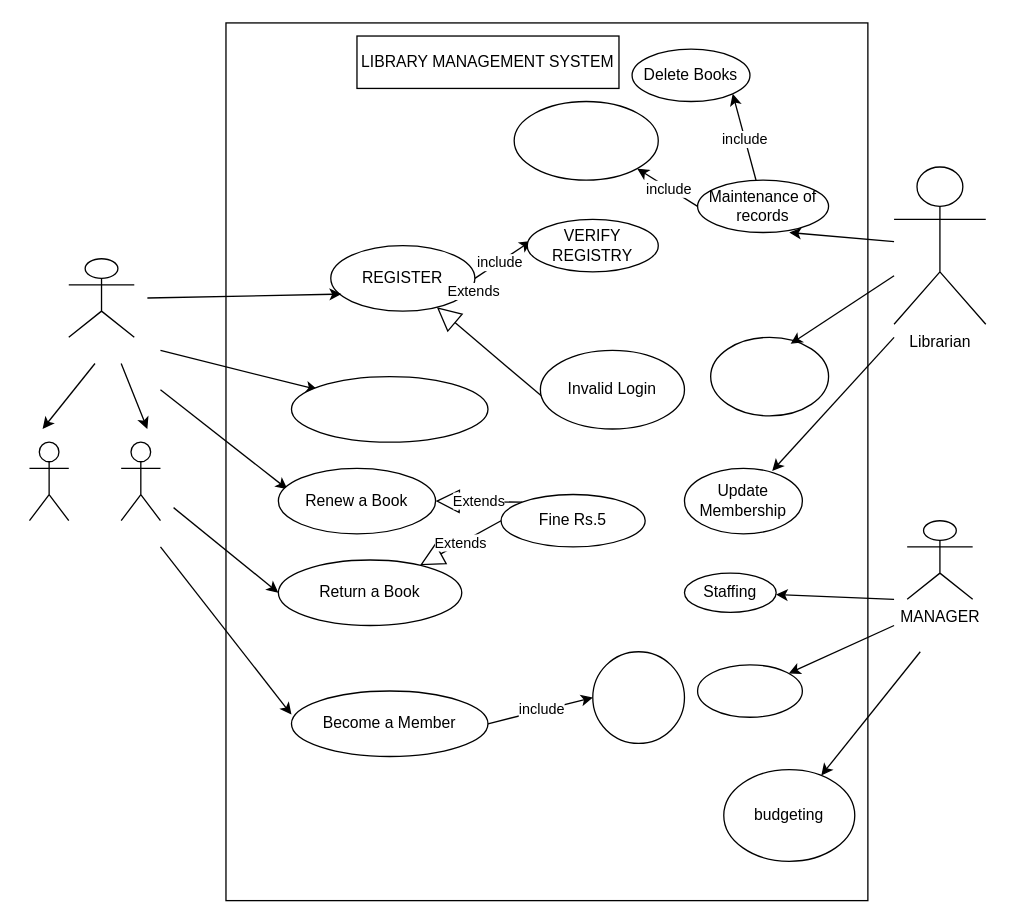
Some shapes in this 1009 by 924 pixel diagram are drawn without their labels. The centre of each missing label's shape, as x and y in pixels:
"ADD Book" goes at pixel 585 140.
"Borrow A Book" goes at pixel 389 408.
"Borrow all types of books" goes at pixel 637 696.
"Issue Membership" goes at pixel 769 376.
"Reporting" goes at pixel 749 690.
"Staff" goes at pixel 140 481.
"Student" goes at pixel 48 481.
"USER" goes at pixel 100 297.
